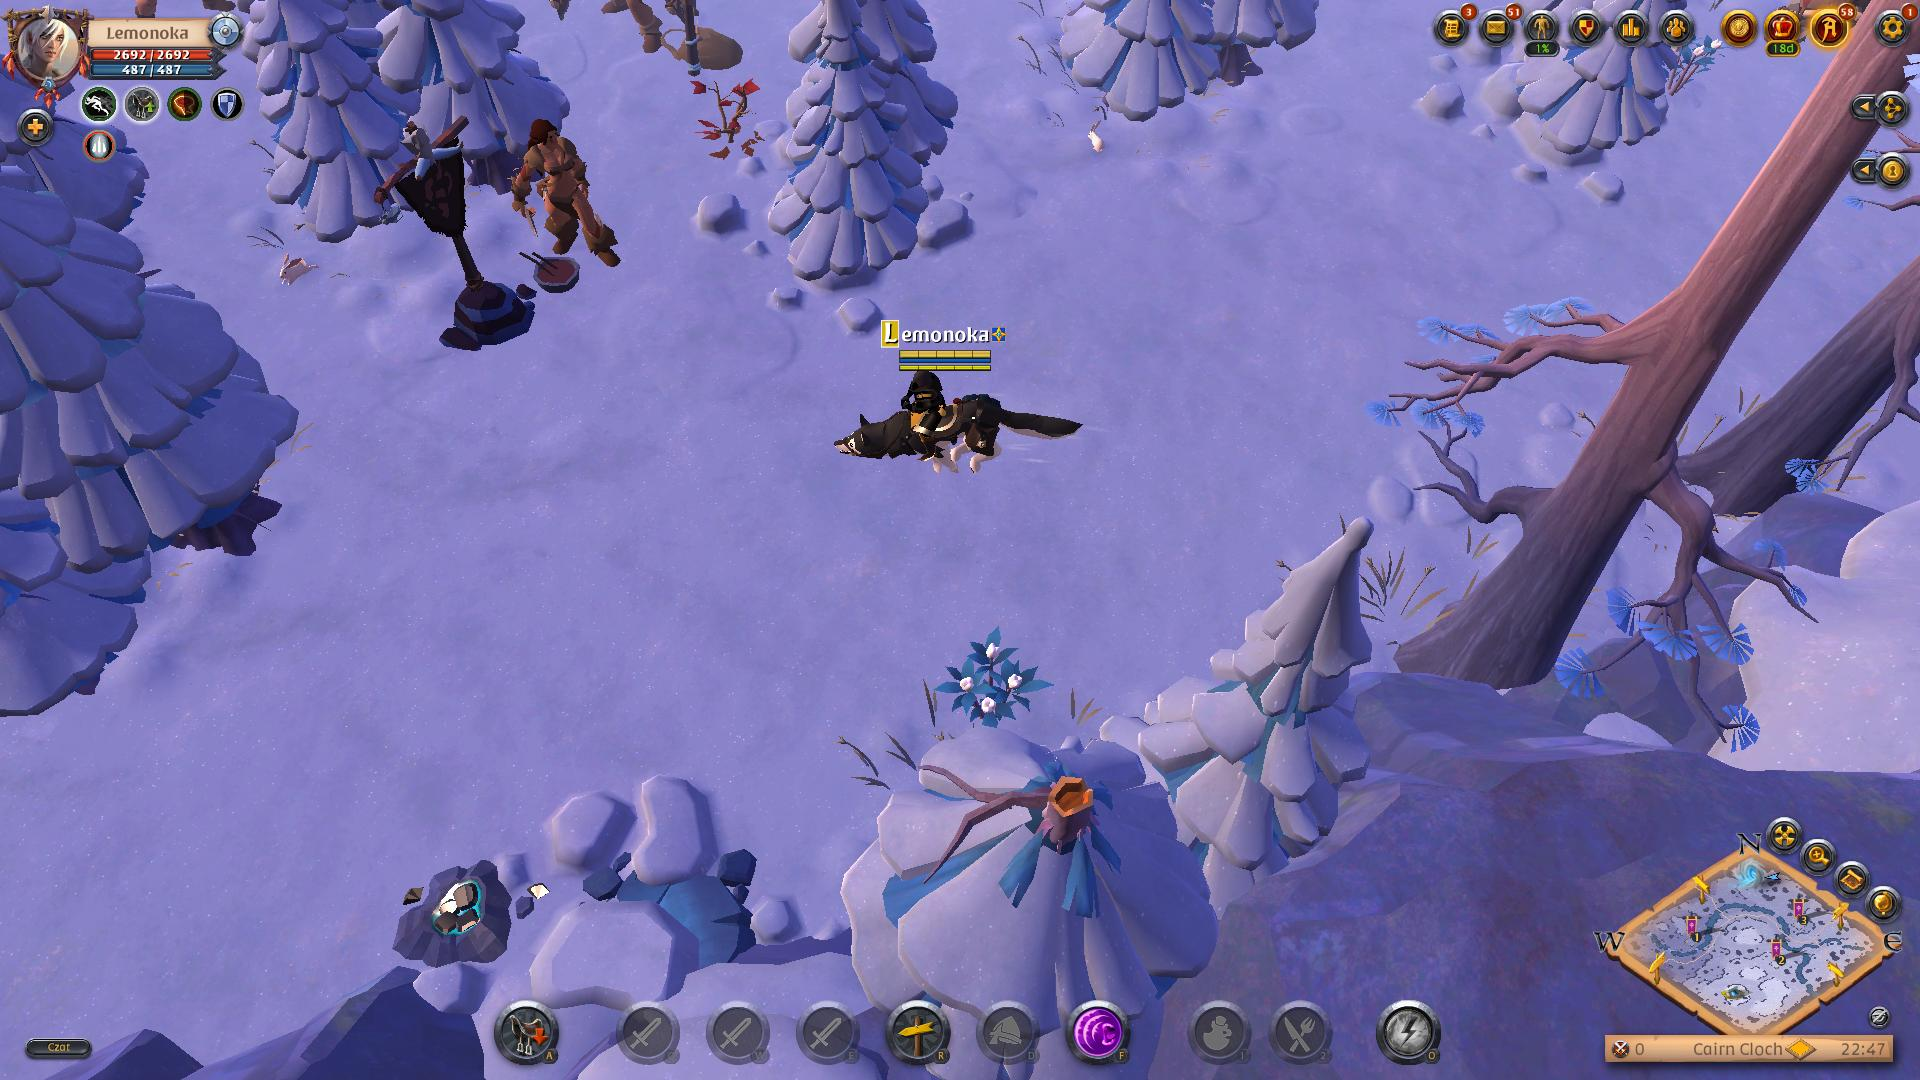fiber tier 4: (942, 629, 1051, 742)
